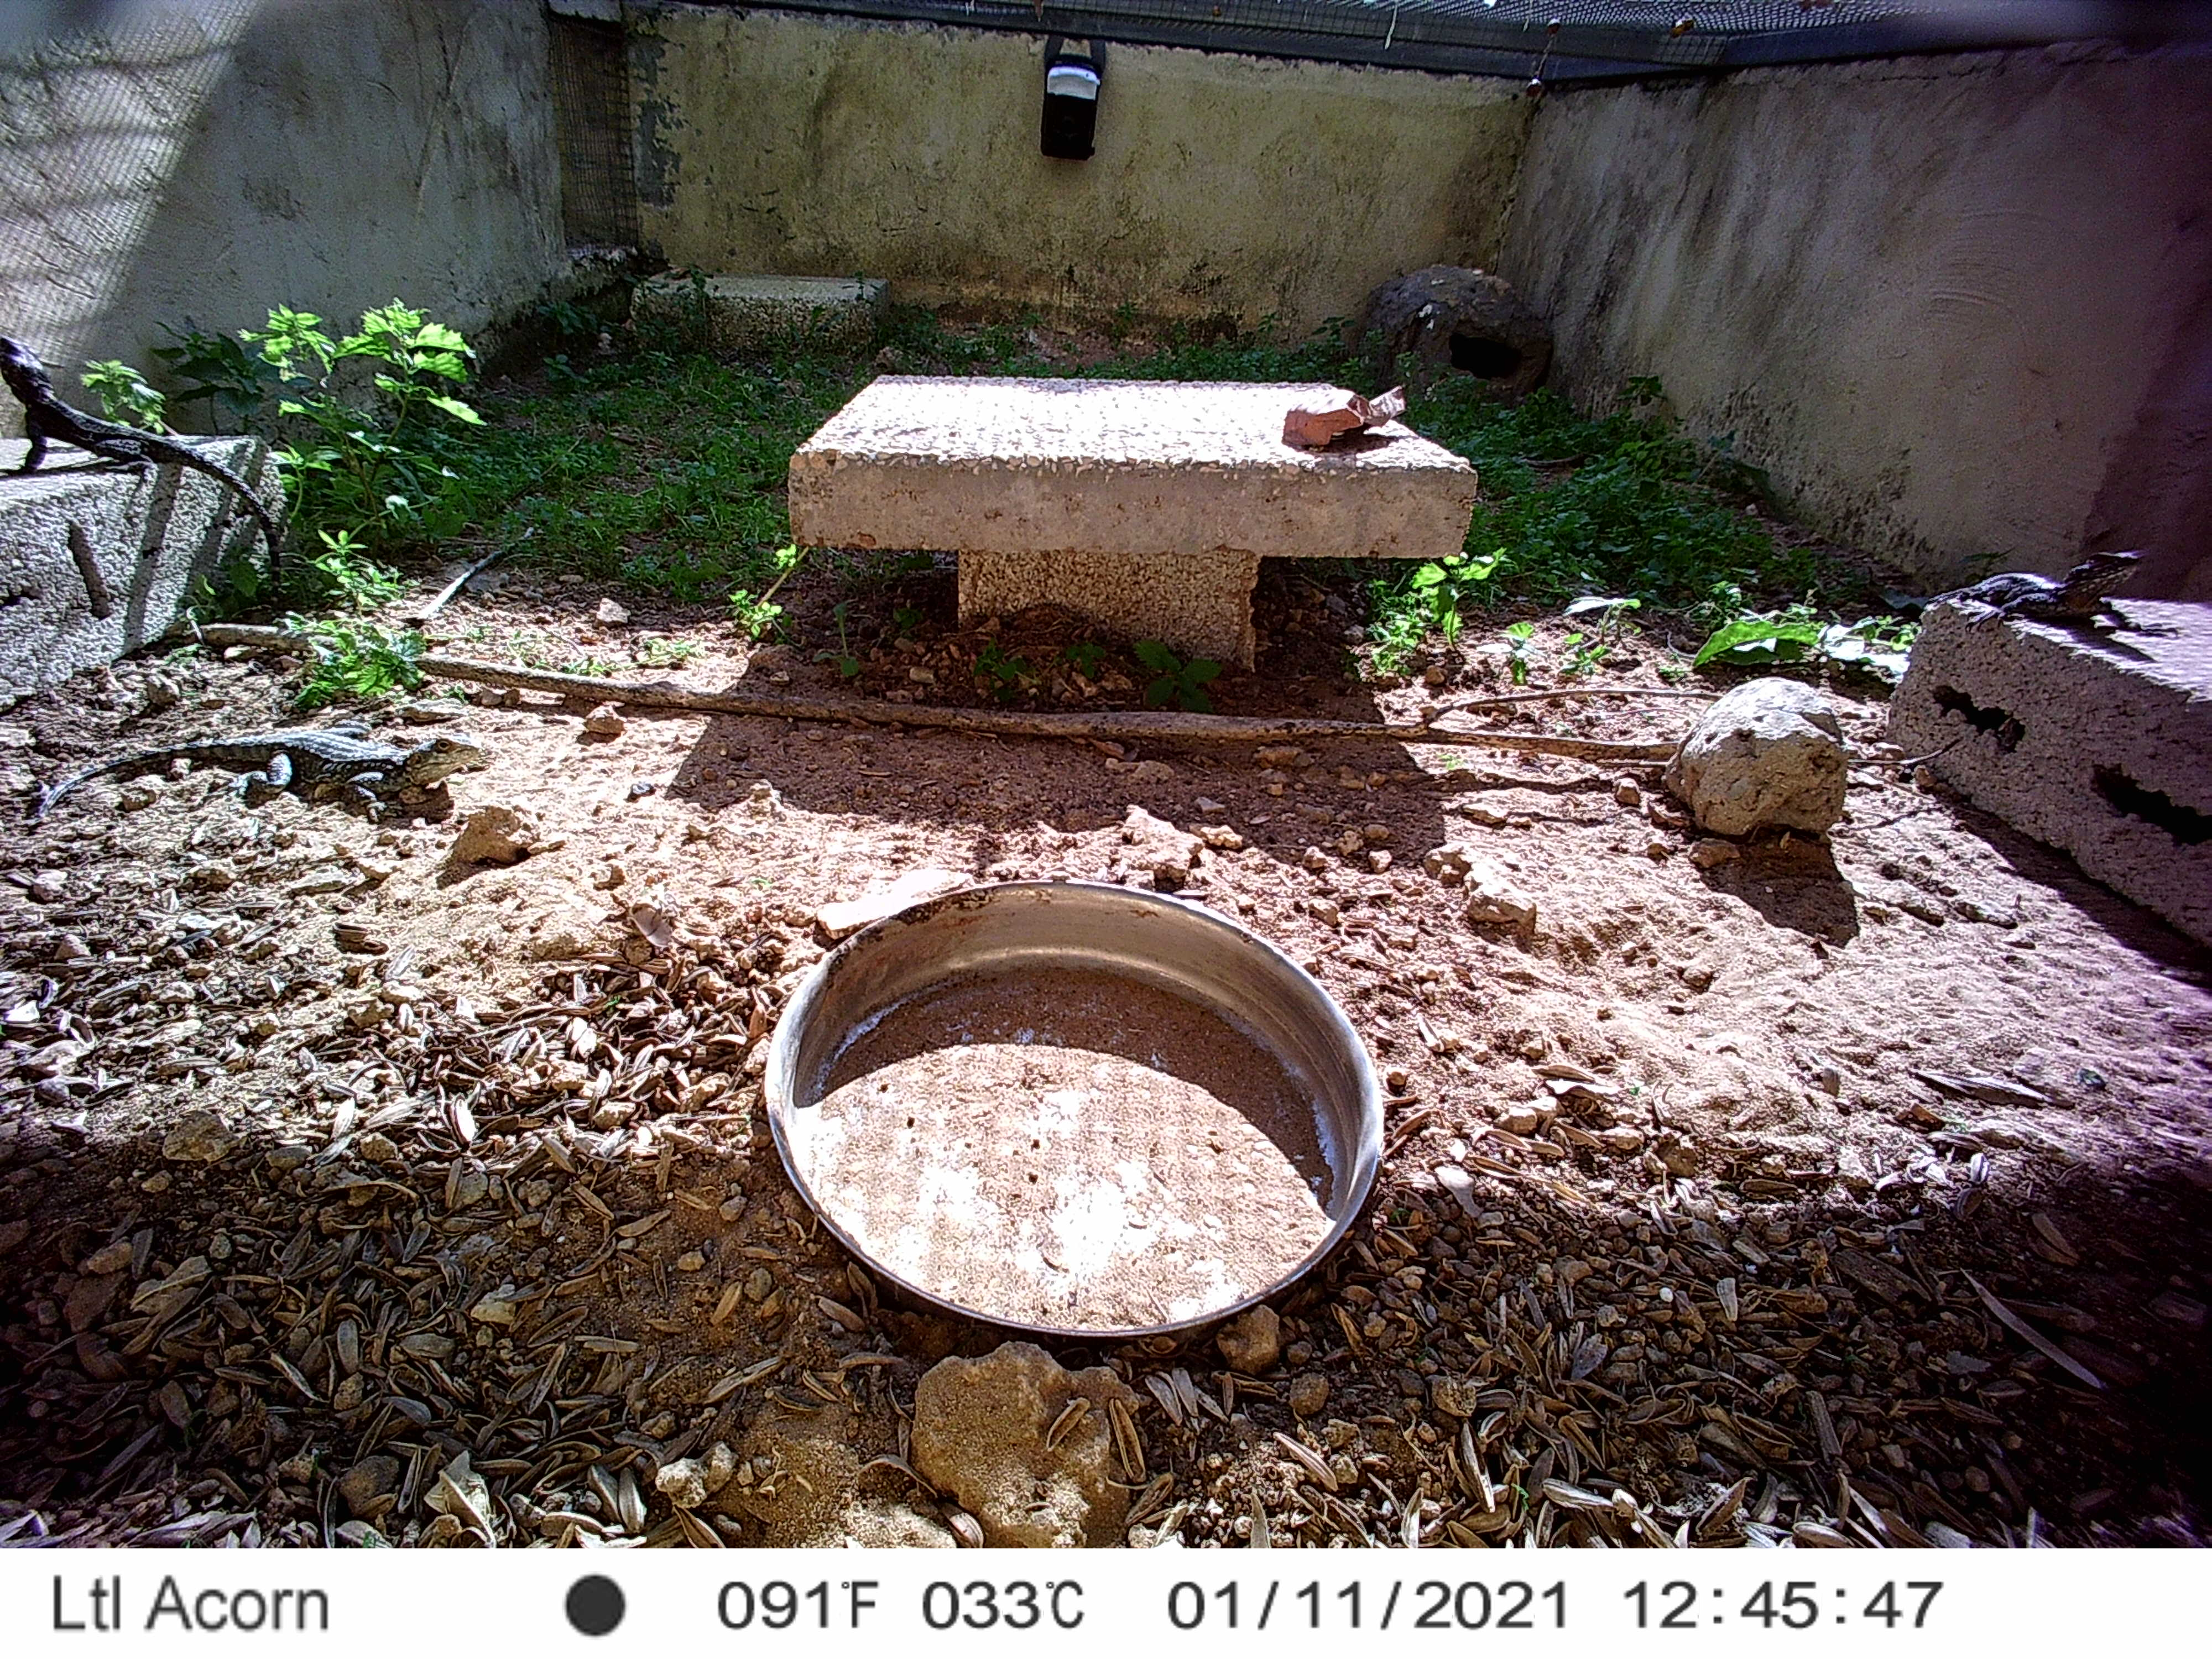lizard: (2, 329, 298, 587), (33, 714, 495, 852), (1892, 544, 2175, 669)
